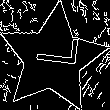L_W: (26, 40, 80, 77)
